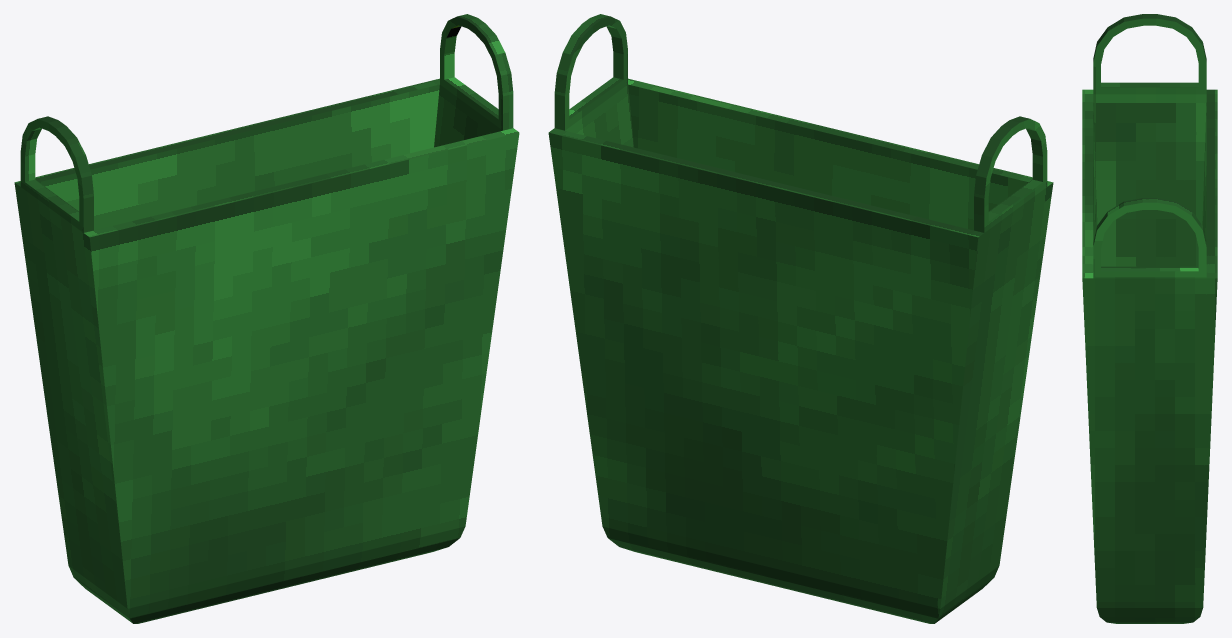
Rendered from Totebag.obj.
The picture shows the model from 3 angles, left to right: view 1: azimuth 30°, elevation 25°; view 2: azimuth 150°, elevation 25°; view 3: azimuth 270°, elevation 25°; orthographic projection. The views are drawn at different scales.
Visible parts, largest first — view 1: PlasticBag; view 2: PlasticBag; view 3: PlasticBag.
Part boxes in pixels (box(x1,y1,x2,y2)): PlasticBag: box(14, 14, 519, 623); PlasticBag: box(548, 14, 1053, 623); PlasticBag: box(1082, 14, 1217, 623).
Bounding box in the file's own units: 4.29 × 4.8 × 1.3.
